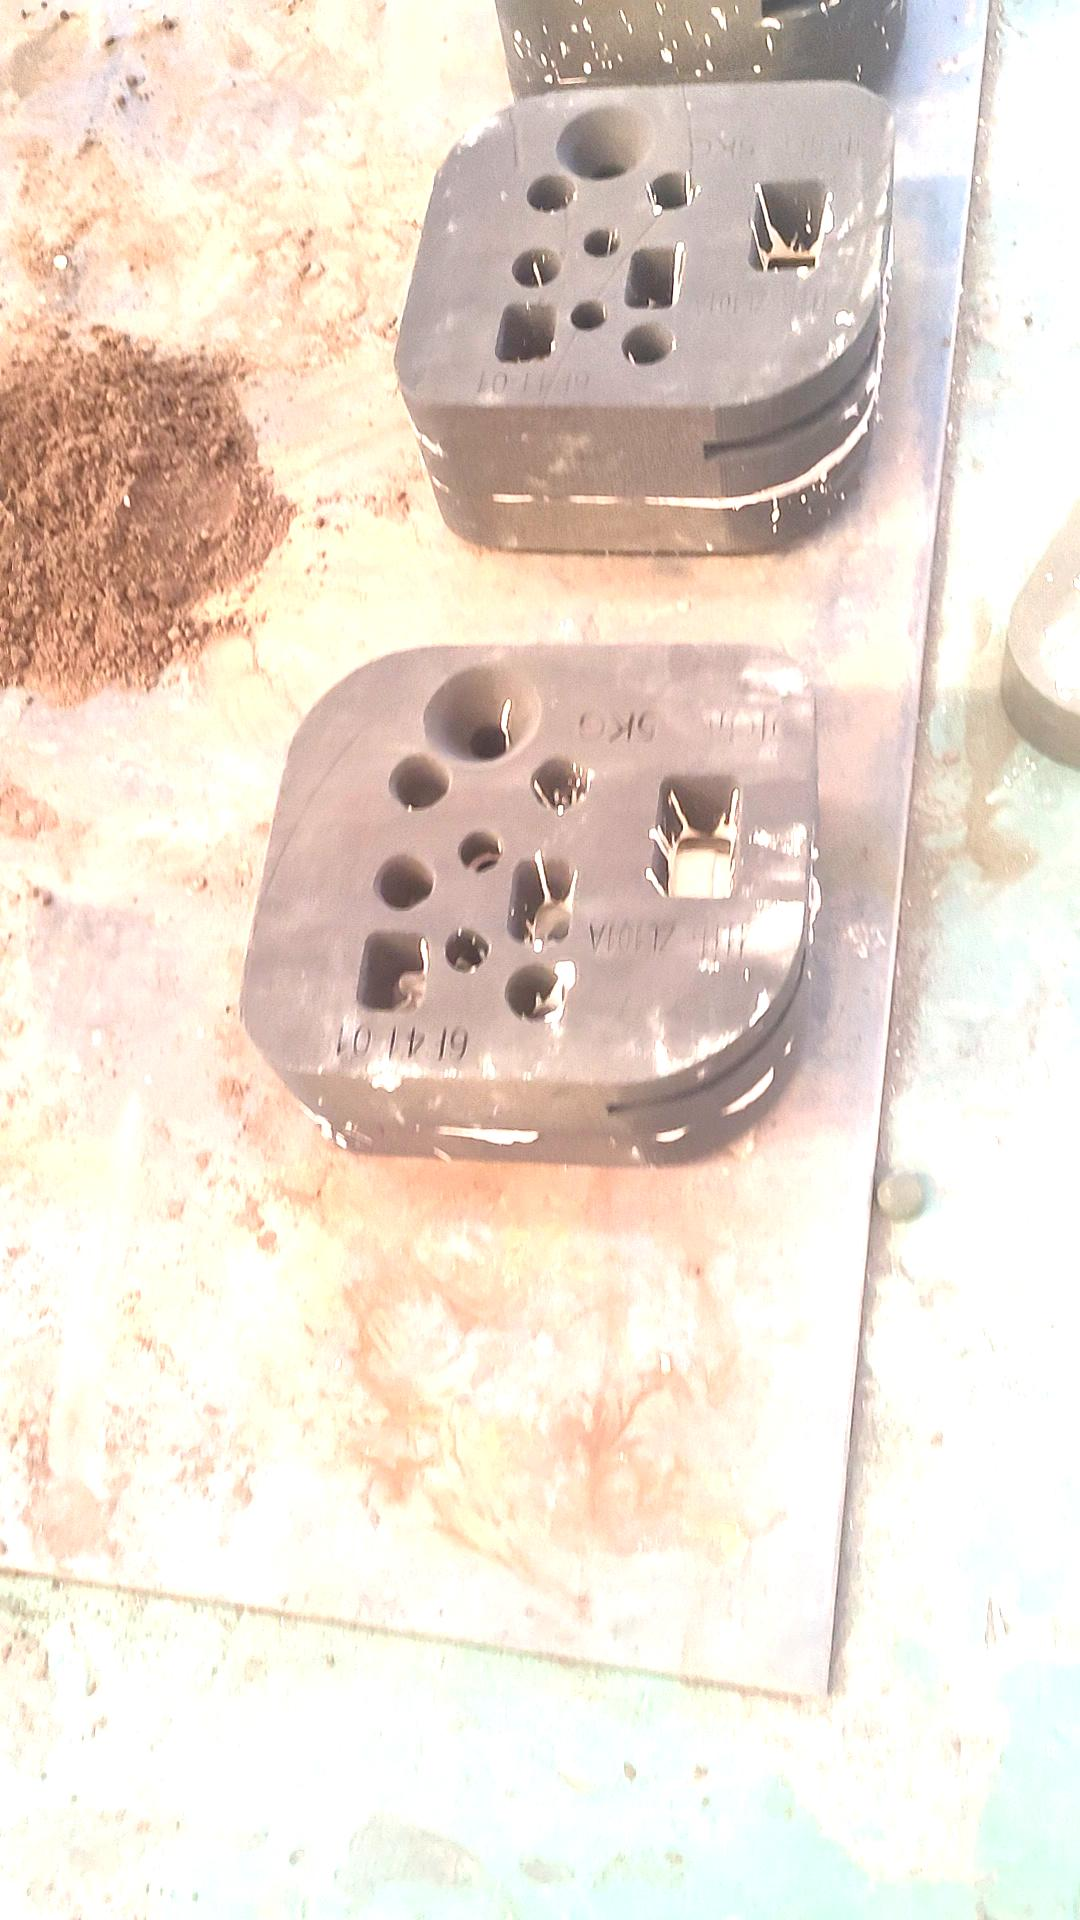pouring hole: (425, 665, 541, 764), (554, 103, 657, 181)
